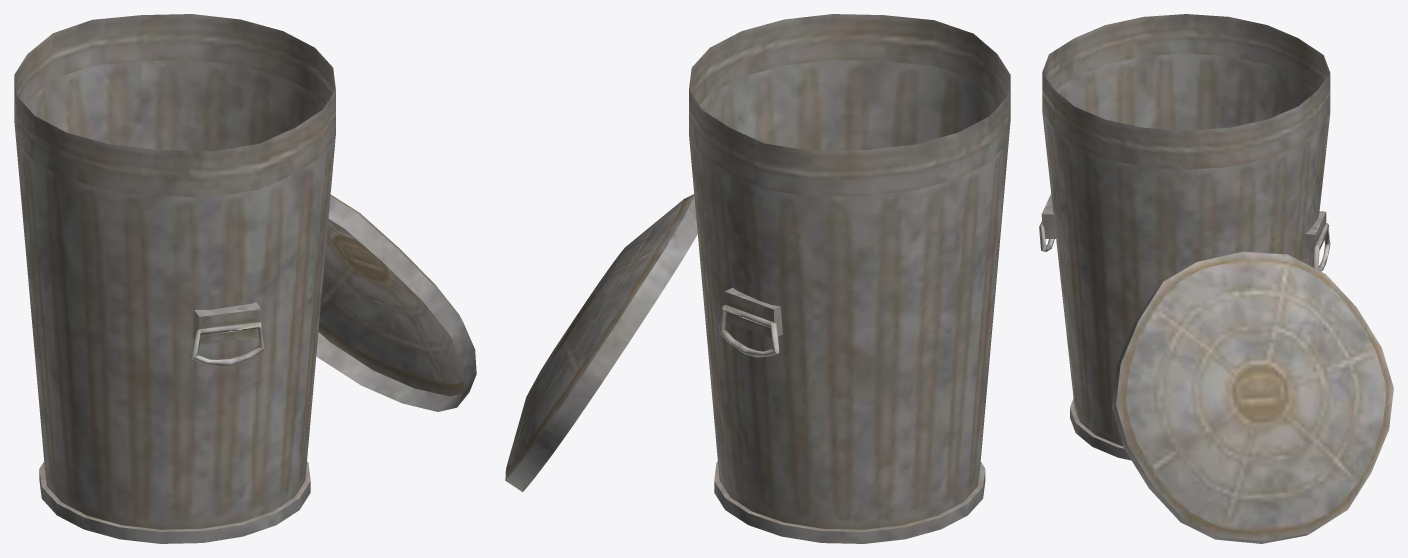
The model's file is trash-can.lod0.glb.
The picture shows the model from 3 angles, left to right: view 1: azimuth 30°, elevation 25°; view 2: azimuth 150°, elevation 25°; view 3: azimuth 270°, elevation 25°; orthographic projection. The views are drawn at different scales.
Parts seen in each view (by area): view 1: Object_2; view 2: Object_2; view 3: Object_2.
Boxes of the visible parts, x1=… form: Object_2: x1=14, y1=14, x2=476, y2=543; Object_2: x1=505, y1=14, x2=1010, y2=543; Object_2: x1=1039, y1=14, x2=1393, y2=543.
Size of the model in its own units: 1.08 by 1 by 0.8969.
1 material, 1 textured.
